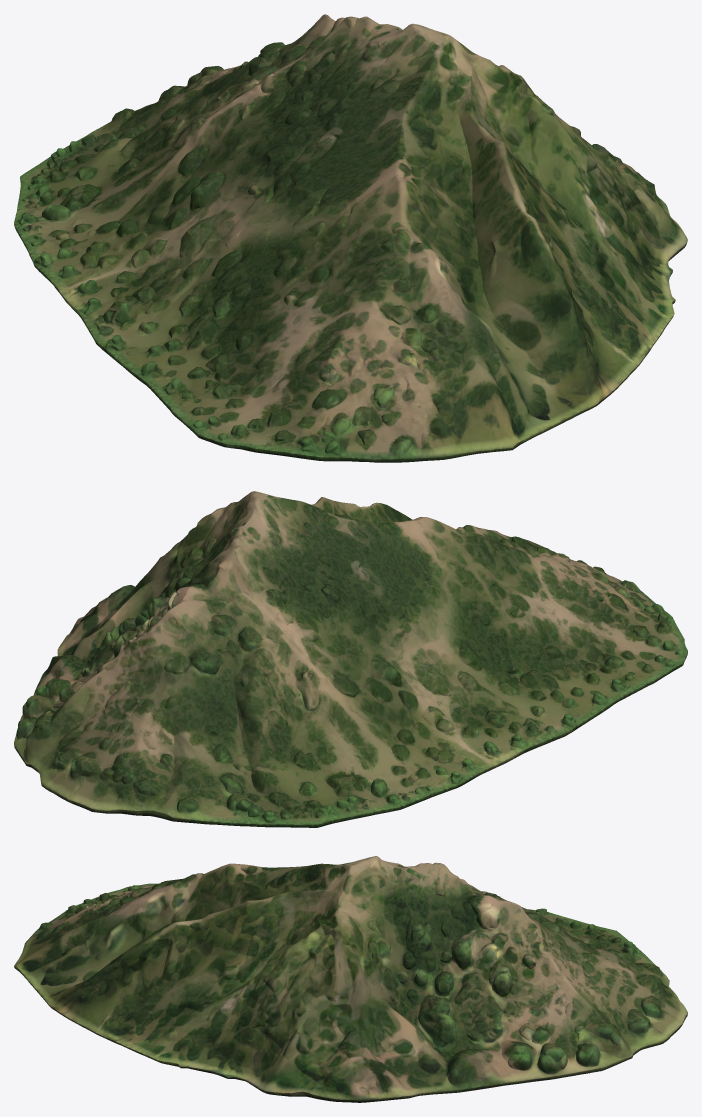
File: title_ridge.glb
3 views of the same model, one above another, from view 1: azimuth 30°, elevation 25°; view 2: azimuth 150°, elevation 25°; view 3: azimuth 270°, elevation 25° (orthographic). The views are drawn at different scales.
Visible parts, largest first — view 1: model; view 2: model; view 3: model.
Boxes of the visible parts, x1,y1,x2,y2 form: model: (14,14,687,462); model: (14,491,687,827); model: (14,856,687,1102).
Size of the model in its own units: 1.4 by 0.4917 by 1.83.
1 material, 1 textured.
